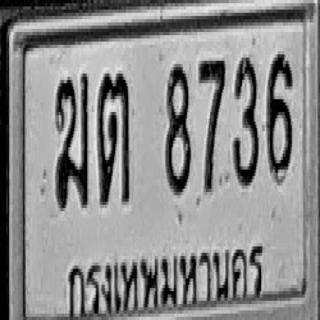A06: (55, 72, 88, 206)
A21: (98, 70, 130, 205)
N03: (233, 54, 258, 186)
N06: (267, 53, 292, 181)
N07: (198, 58, 225, 192)
N08: (165, 62, 191, 194)
P04: (62, 242, 271, 320)
